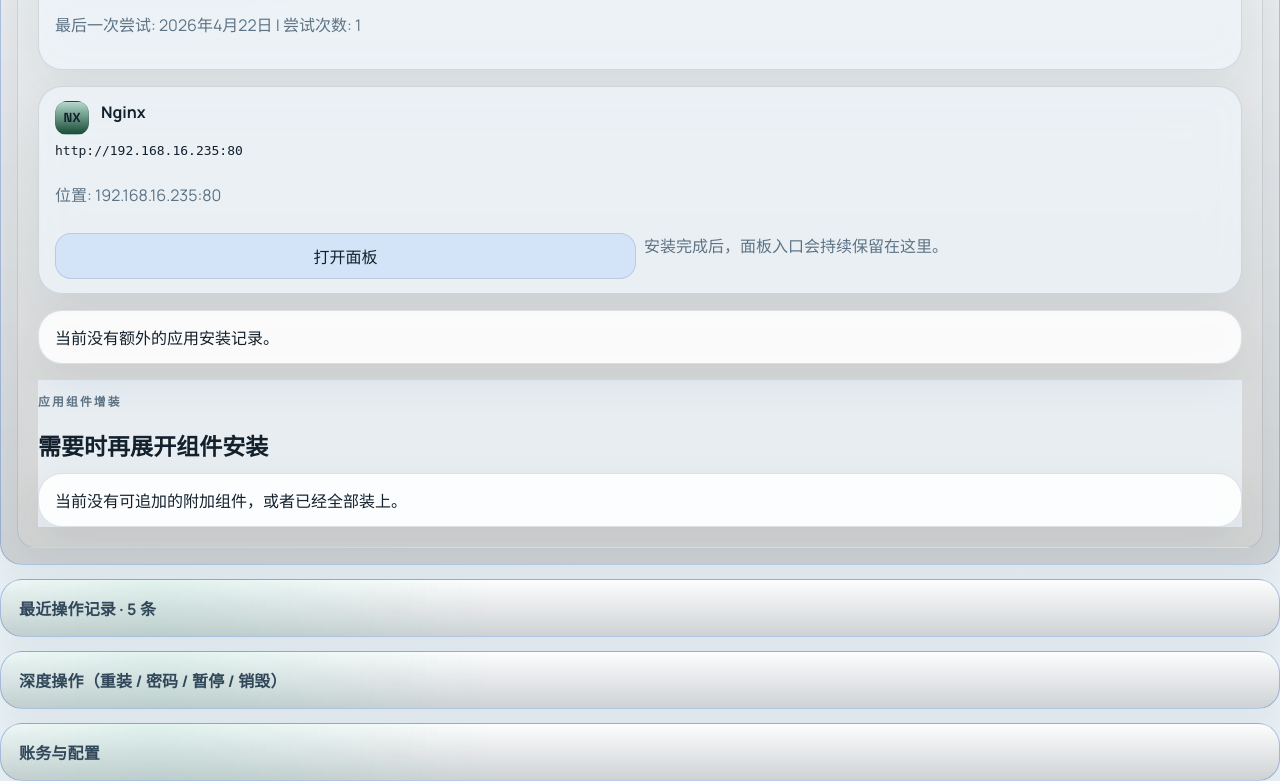
ServiceDetailPage › keeps billing drawer collapsed by default and exposes renewal controls after expand
The width and height of the screenshot is (1280, 781).
(page scrolled)
Click the heading "账务与配置". click: (59, 753)
box: [19, 742, 100, 764]
(page scrolled)
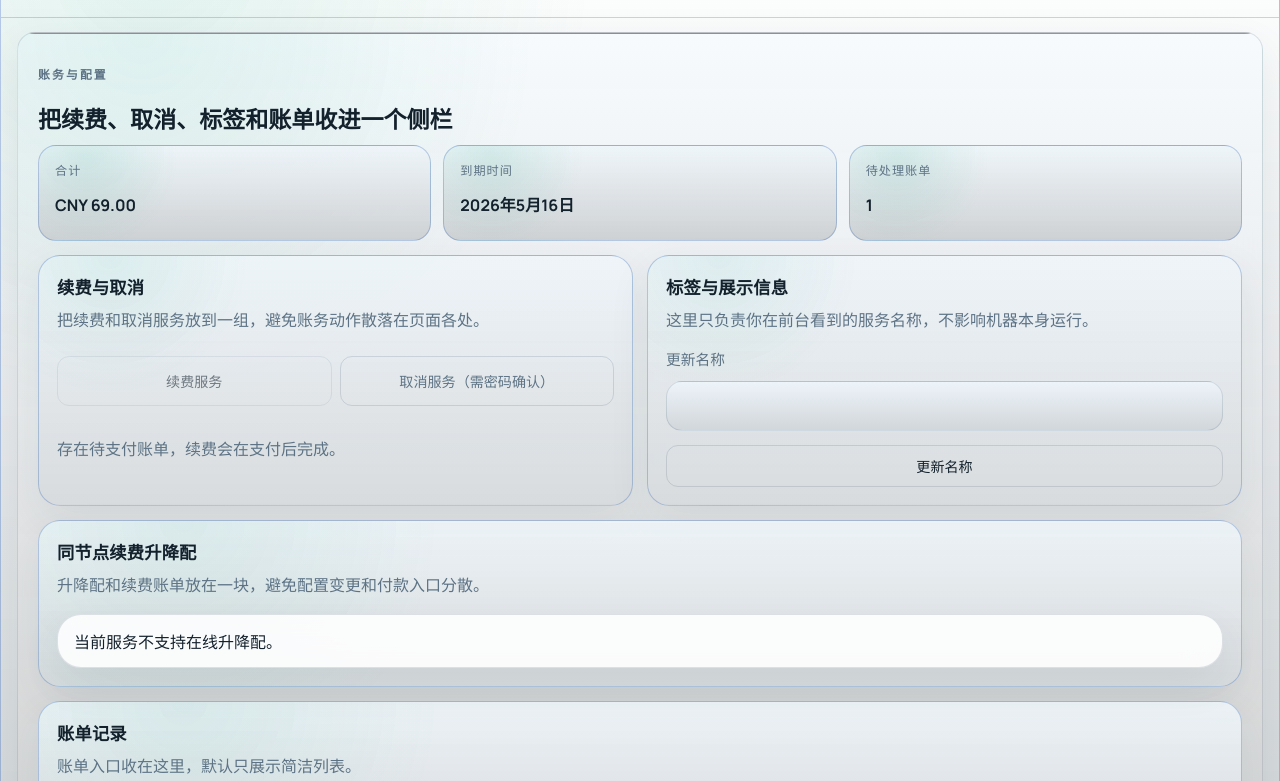
Now the button "续费服务" is shown, box [57, 356, 332, 406]
